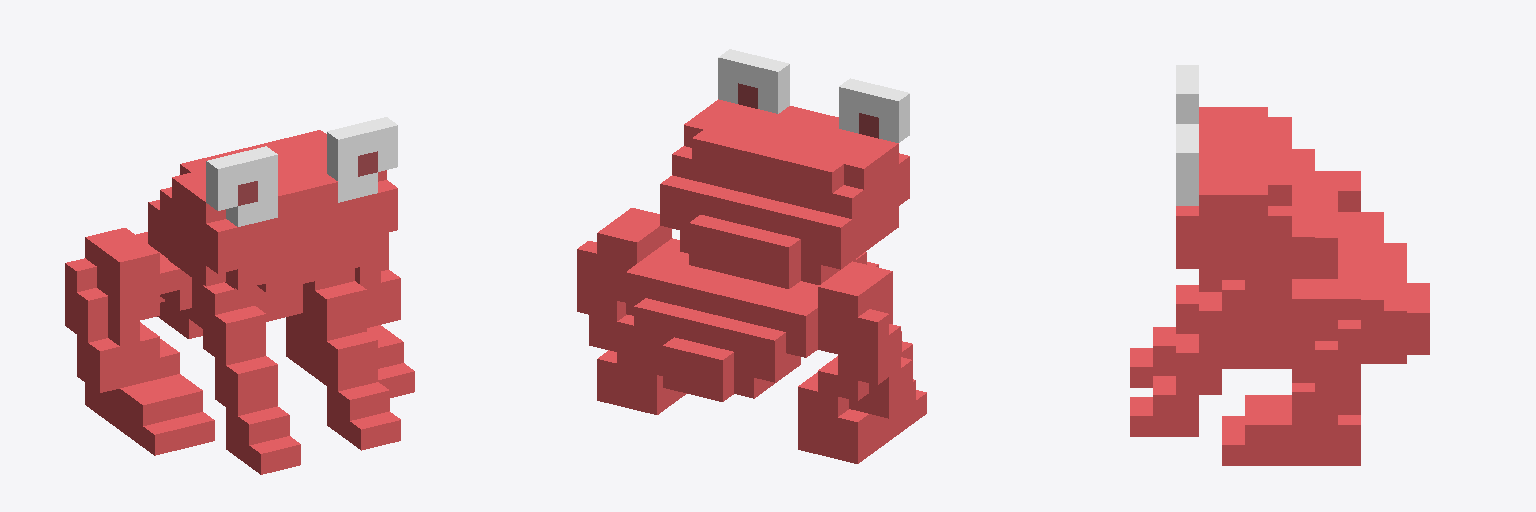
The picture shows the model from 3 angles: view 1: azimuth 30°, elevation 25°; view 2: azimuth 150°, elevation 25°; view 3: azimuth 270°, elevation 25°; orthographic projection.
Bounding box in the file's own units: 15 × 14 × 13.
Materials: 1 (1 with a texture image).